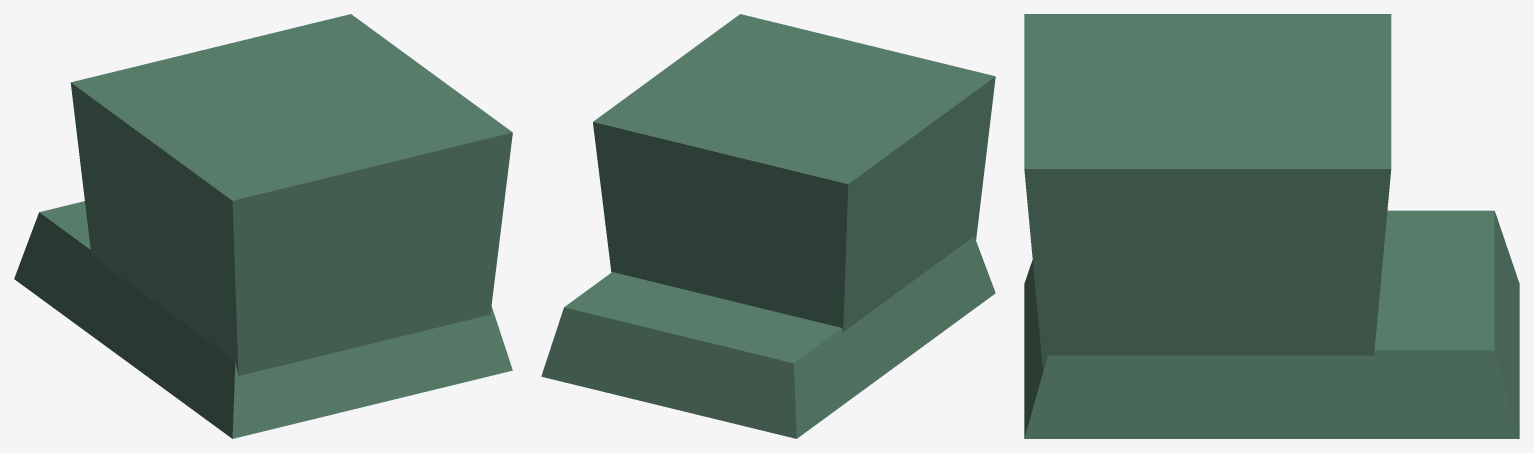
Rendered from animal_dryad_medicinemaker_leg.obj.
The picture shows the model from 3 angles, left to right: view 1: azimuth 30°, elevation 25°; view 2: azimuth 150°, elevation 25°; view 3: azimuth 270°, elevation 25°; orthographic projection. The views are drawn at different scales.
Parts seen in each view (by area): view 1: animal_dryad_medicinemaker_leg; view 2: animal_dryad_medicinemaker_leg; view 3: animal_dryad_medicinemaker_leg.
Part boxes in pixels (left/top/right/bottom): animal_dryad_medicinemaker_leg: left=14, top=14, right=512, bottom=438; animal_dryad_medicinemaker_leg: left=541, top=14, right=995, bottom=438; animal_dryad_medicinemaker_leg: left=1024, top=14, right=1519, bottom=438.
Bounding box in the file's own units: 0.1178 × 0.0956 × 0.159.
